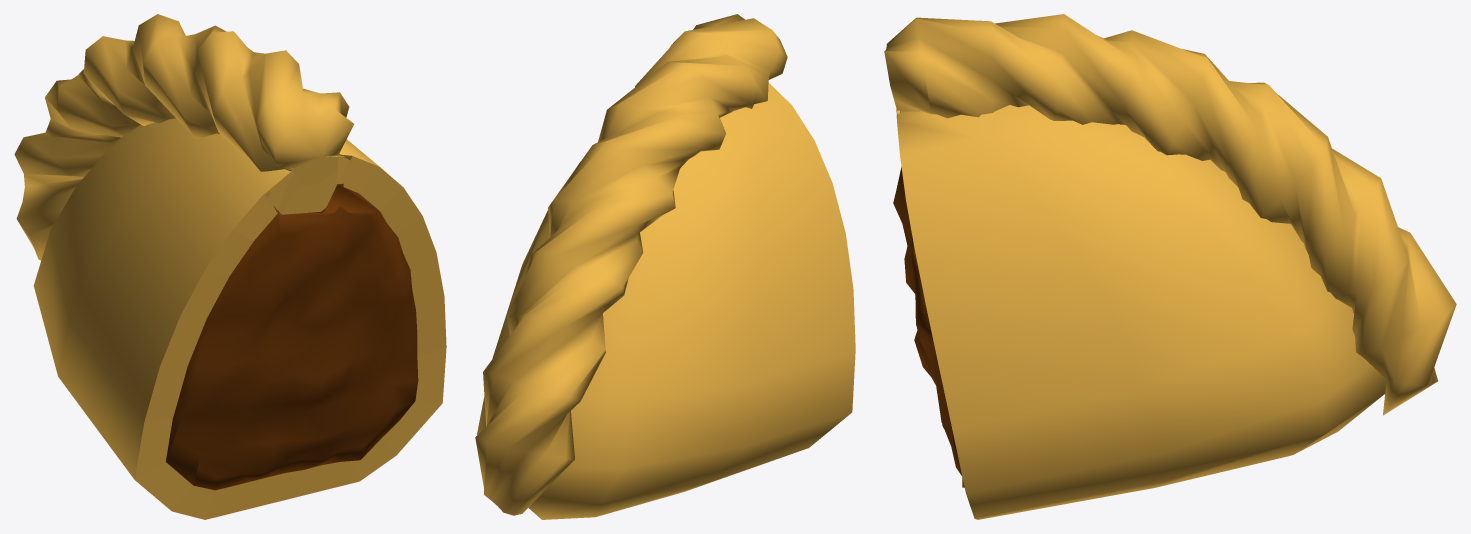
Rendered from MitadEmpanada2 (1).fbx.
3 views of the same model, side by side, from view 1: azimuth 30°, elevation 25°; view 2: azimuth 150°, elevation 25°; view 3: azimuth 270°, elevation 25° (orthographic). The views are drawn at different scales.
Parts seen in each view (by area): view 1: MitadEmpanada2.001; view 2: MitadEmpanada2.001; view 3: MitadEmpanada2.001.
Part boxes in pixels (box(x1,y1,x2,y2)): MitadEmpanada2.001: box(14, 14, 446, 519); MitadEmpanada2.001: box(475, 14, 855, 519); MitadEmpanada2.001: box(884, 14, 1456, 519).
Size of the model in its own units: 64.48 by 88.47 by 101.
